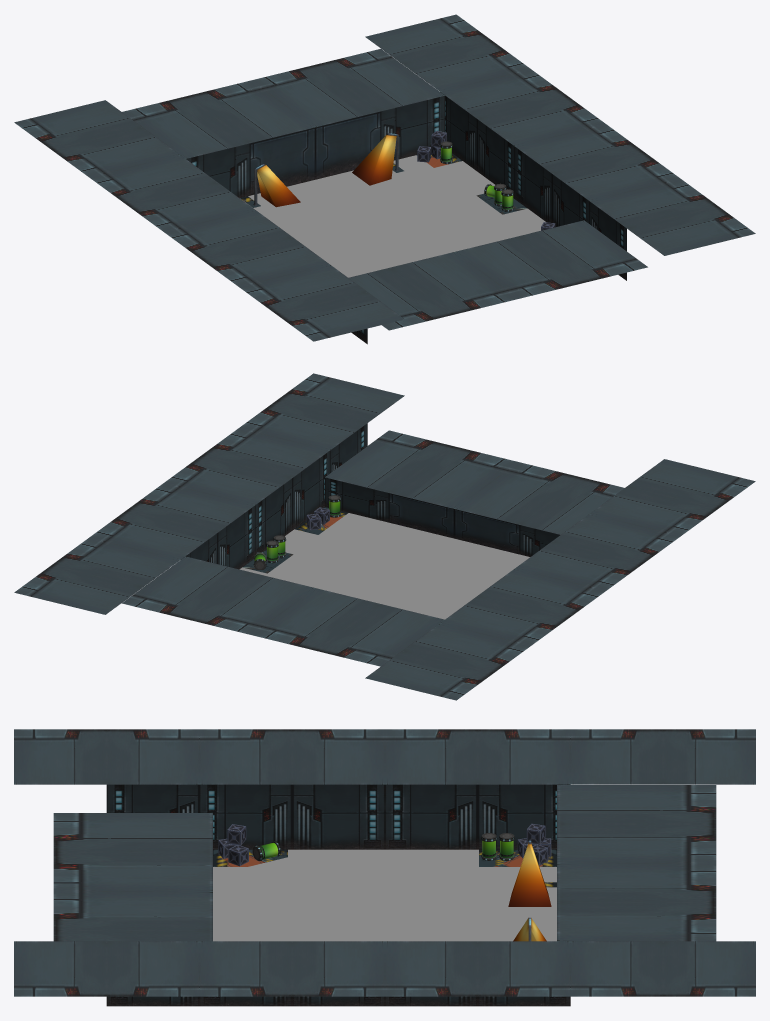
The model's file is last background.FBX.
The picture shows the model from 3 angles, top to bottom: view 1: azimuth 30°, elevation 25°; view 2: azimuth 150°, elevation 25°; view 3: azimuth 270°, elevation 25°; orthographic projection. The views are drawn at different scales.
Parts seen in each view (by area): view 1: wall, navi mesh dummy, light, badak; view 2: wall, navi mesh dummy, badak; view 3: wall, navi mesh dummy, light, badak.
Part boxes in pixels (left/top/right/bottom): wall: left=14, top=14, right=755, bottom=344; navi mesh dummy: left=240, top=155, right=545, bottom=277; light: left=257, top=134, right=396, bottom=207; badak: left=240, top=153, right=539, bottom=231; wall: left=14, top=373, right=755, bottom=700; navi mesh dummy: left=239, top=513, right=529, bottom=619; badak: left=242, top=507, right=348, bottom=573; wall: left=14, top=729, right=755, bottom=1006; navi mesh dummy: left=213, top=849, right=556, bottom=941; light: left=508, top=843, right=551, bottom=941; badak: left=213, top=849, right=556, bottom=887.
Bounding box in the file's own units: 4720 × 5535 × 607.
